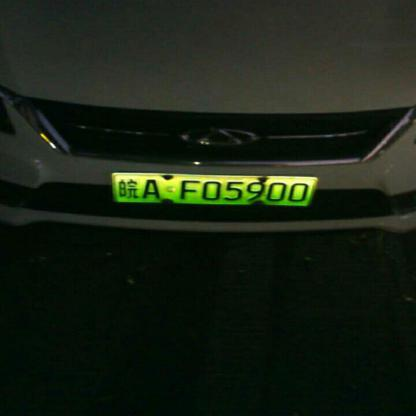lp: (111, 172, 319, 206)
